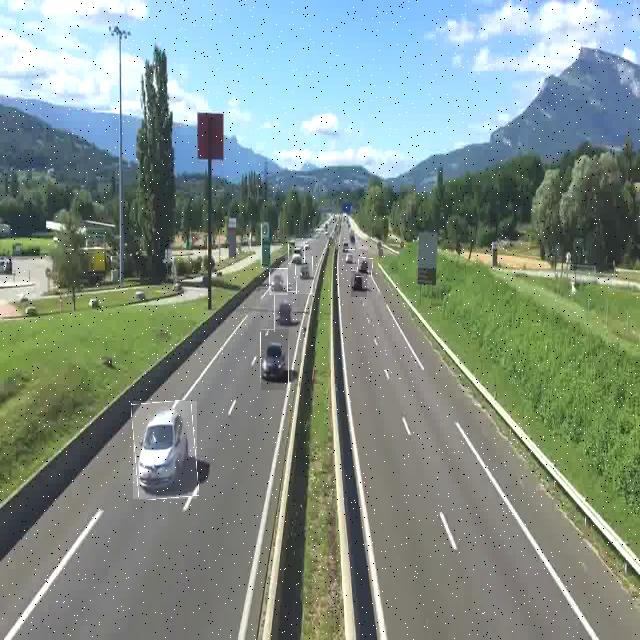Car: (133, 401, 197, 499), (261, 329, 289, 390), (274, 291, 297, 332), (296, 256, 313, 294), (269, 268, 288, 295), (352, 270, 368, 297), (357, 258, 373, 277), (345, 249, 355, 264)
Truck: (289, 242, 305, 264)
